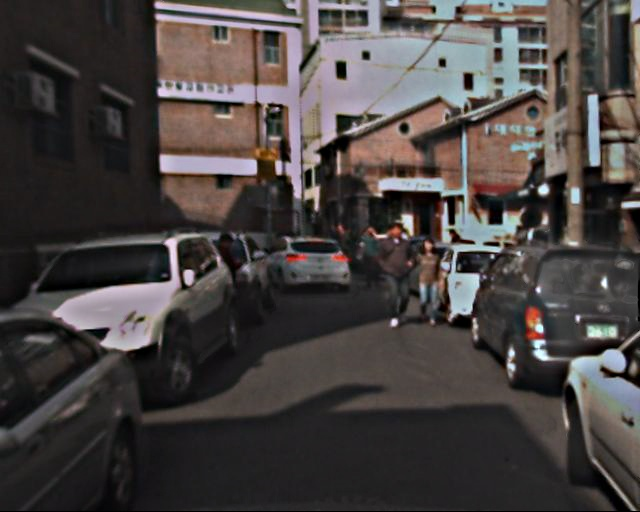person: (374, 224, 416, 327), (207, 230, 246, 326), (410, 239, 446, 327), (359, 226, 384, 286), (331, 221, 361, 257)
